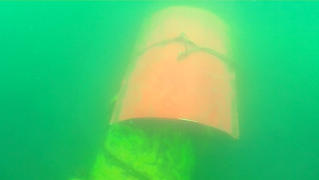leak: (108, 6, 239, 140)
pipe: (68, 119, 217, 179)
